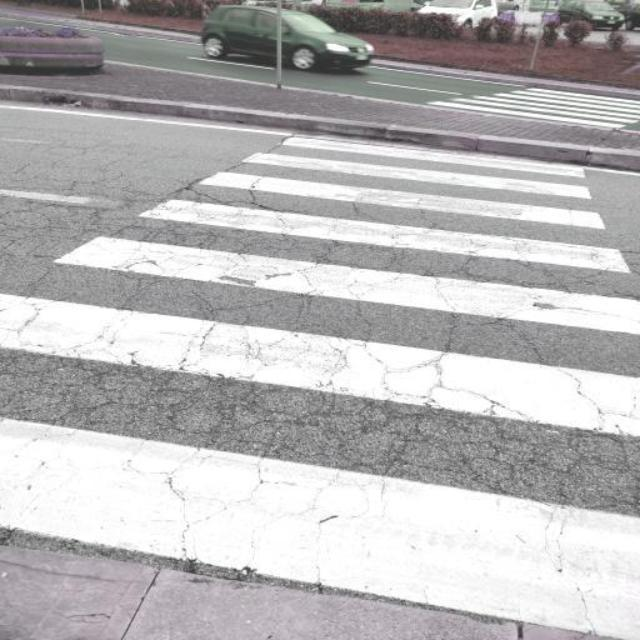sidewalk: (0, 124, 640, 640)
